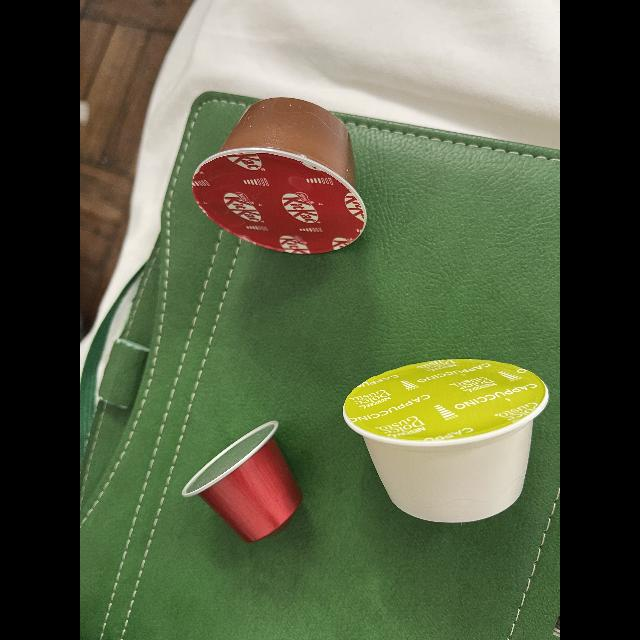intact_capsule: (338, 347, 560, 536), (172, 86, 390, 262), (174, 412, 320, 558)
